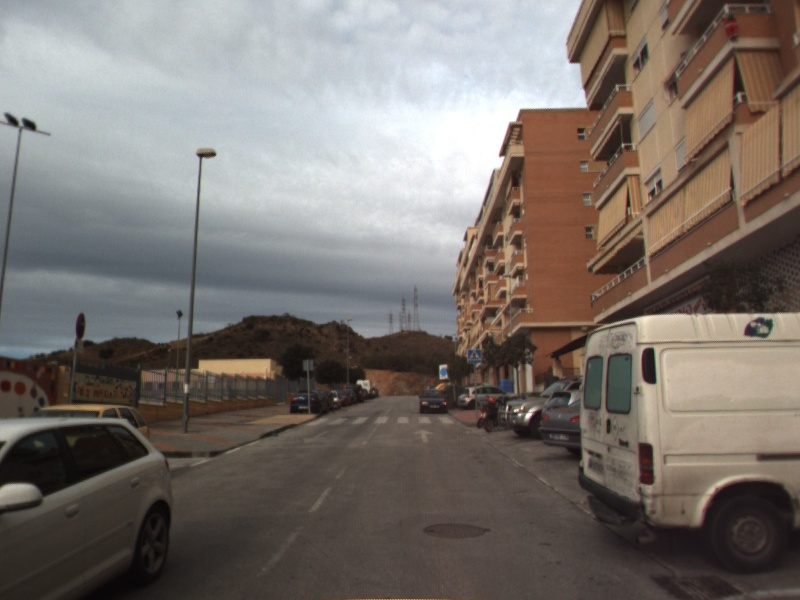STRAIGHT: (411, 427, 436, 444)
